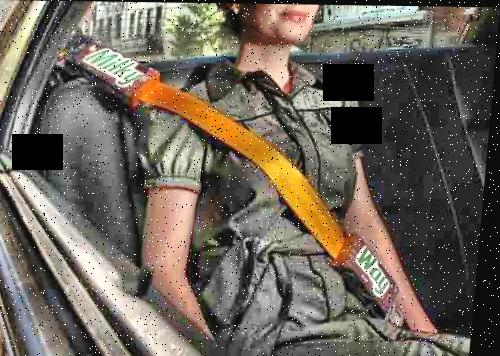seatbelt: (118, 69, 408, 274)
